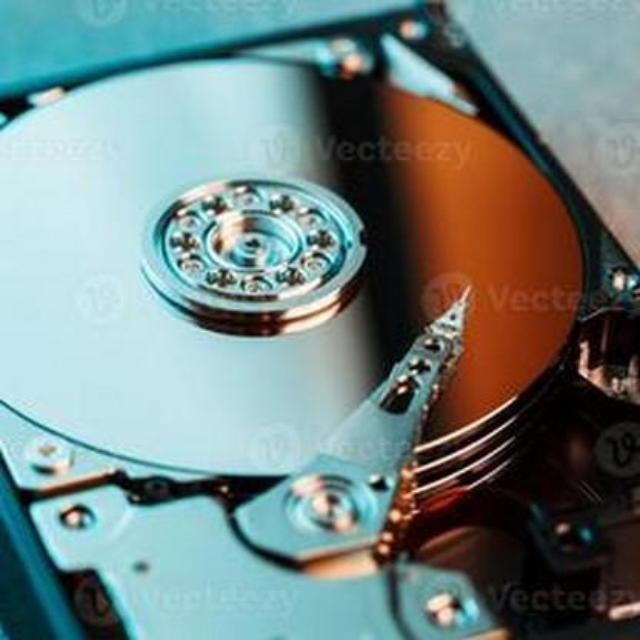DISK: (0, 23, 620, 640)
